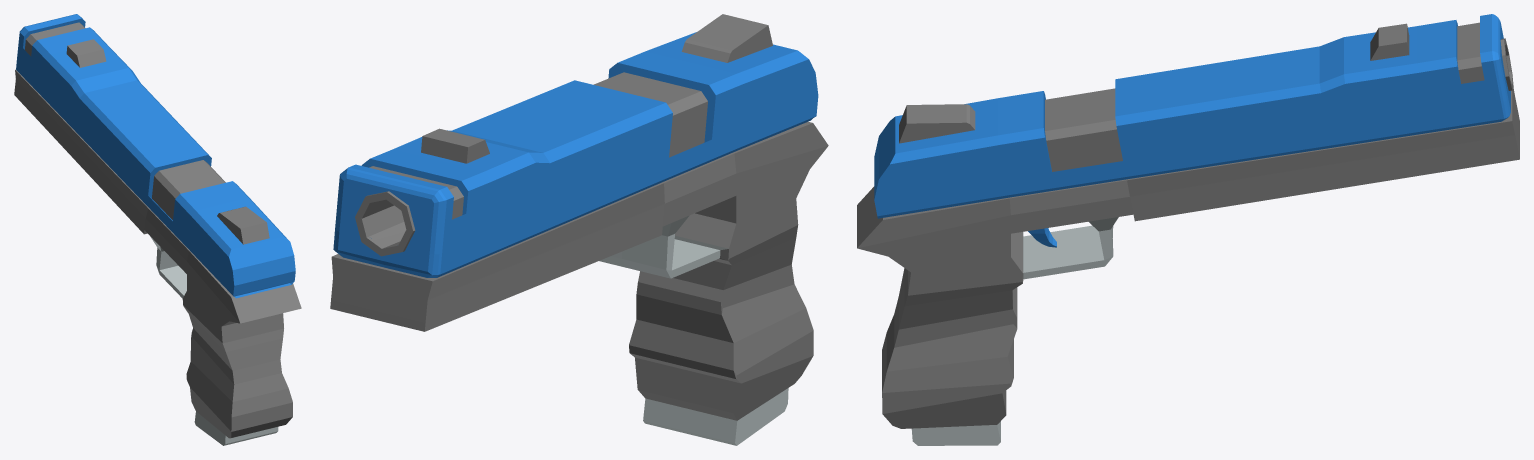
Rendered from PistolDesign01.fbx.
3 views of the same model, side by side, from view 1: azimuth 30°, elevation 25°; view 2: azimuth 150°, elevation 25°; view 3: azimuth 270°, elevation 25° (orthographic). The views are drawn at different scales.
Parts seen in each view (by area): view 1: Design01; view 2: Design01; view 3: Design01.
Boxes of the visible parts, x1,y1,x2,y2 form: Design01: [14, 14, 301, 445]; Design01: [330, 14, 828, 445]; Design01: [857, 14, 1519, 445].
Bounding box in the file's own units: 72.96 × 310 × 472.
